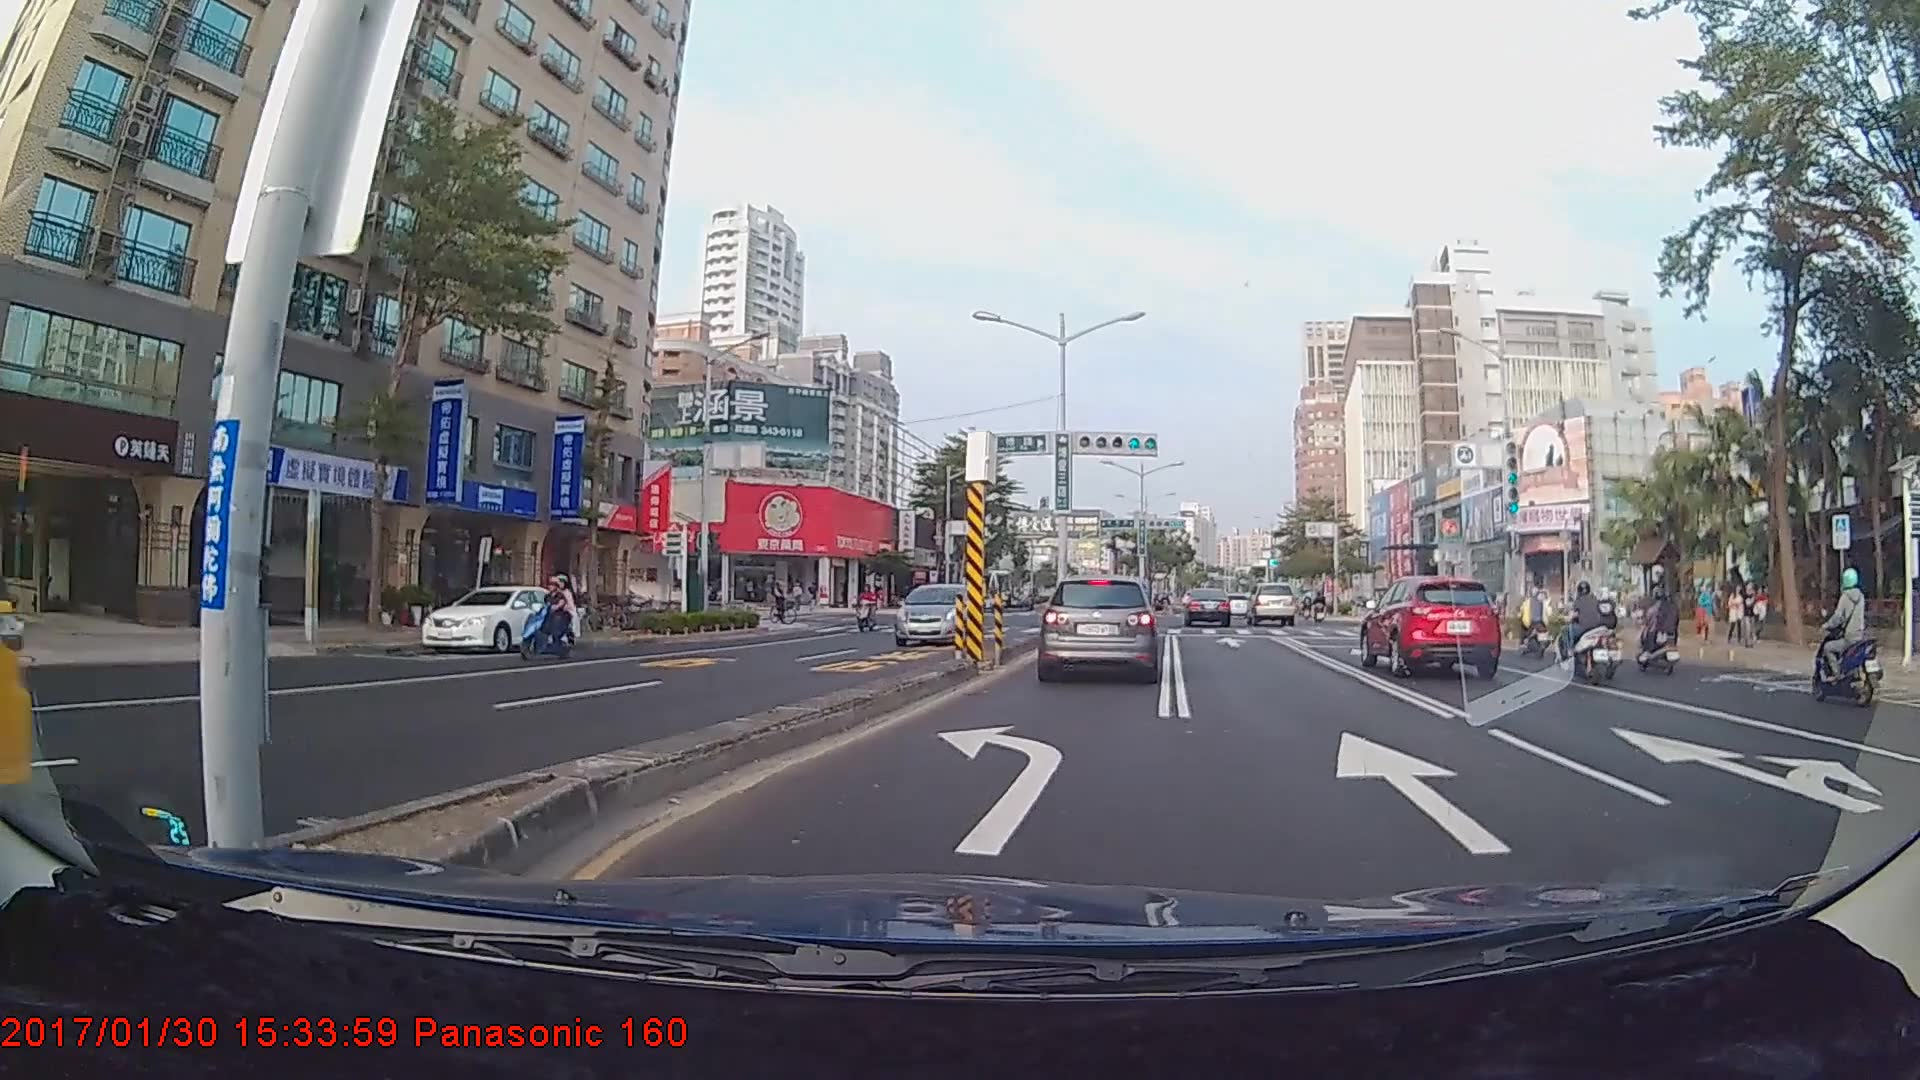pedestrian: (1696, 580, 1720, 648), (1742, 581, 1762, 645), (1727, 581, 1747, 643)
rider: (1806, 567, 1885, 709), (1551, 574, 1619, 679), (510, 571, 580, 665), (1630, 583, 1682, 674), (851, 576, 879, 635), (766, 576, 796, 629)
vehicle: (1360, 570, 1504, 677), (1034, 572, 1160, 683), (420, 583, 580, 652), (892, 581, 981, 643), (1246, 582, 1296, 627), (1183, 587, 1231, 628)
